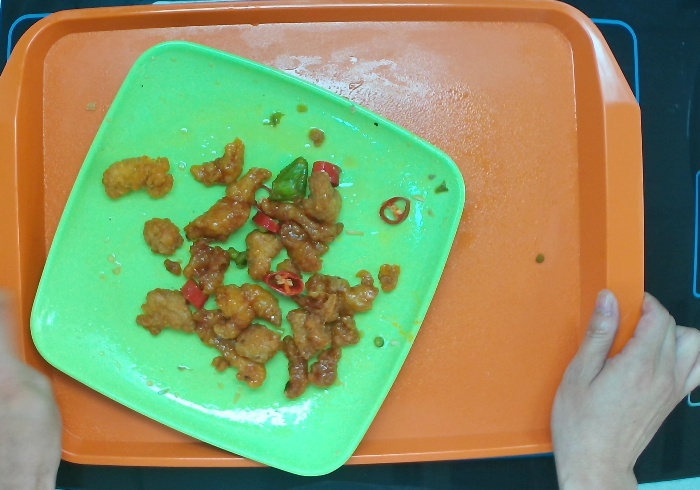ZNLD-Lv_Fang_Pan: (26, 37, 465, 479)
